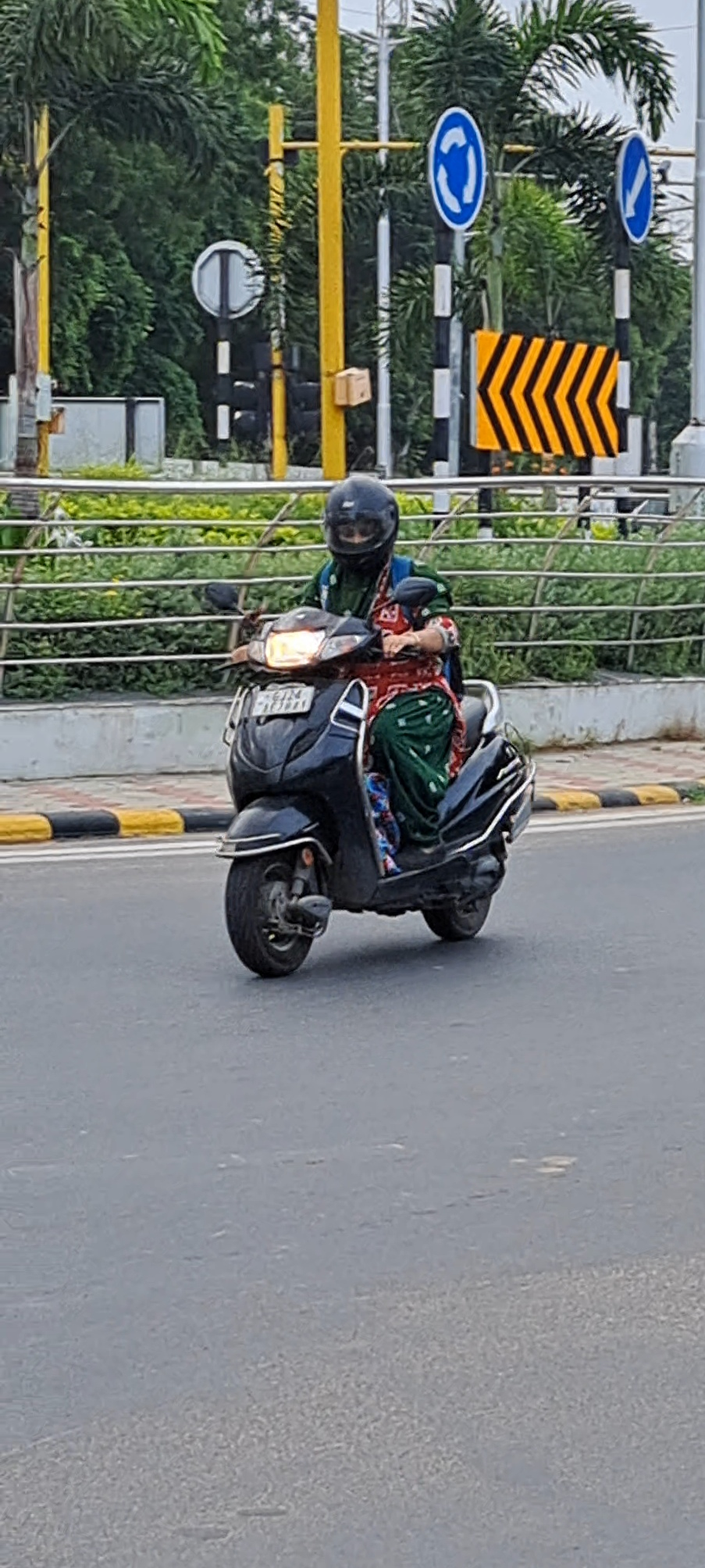BikeWithRider: (205, 466, 568, 1013)
Helmet: (307, 473, 422, 588)
